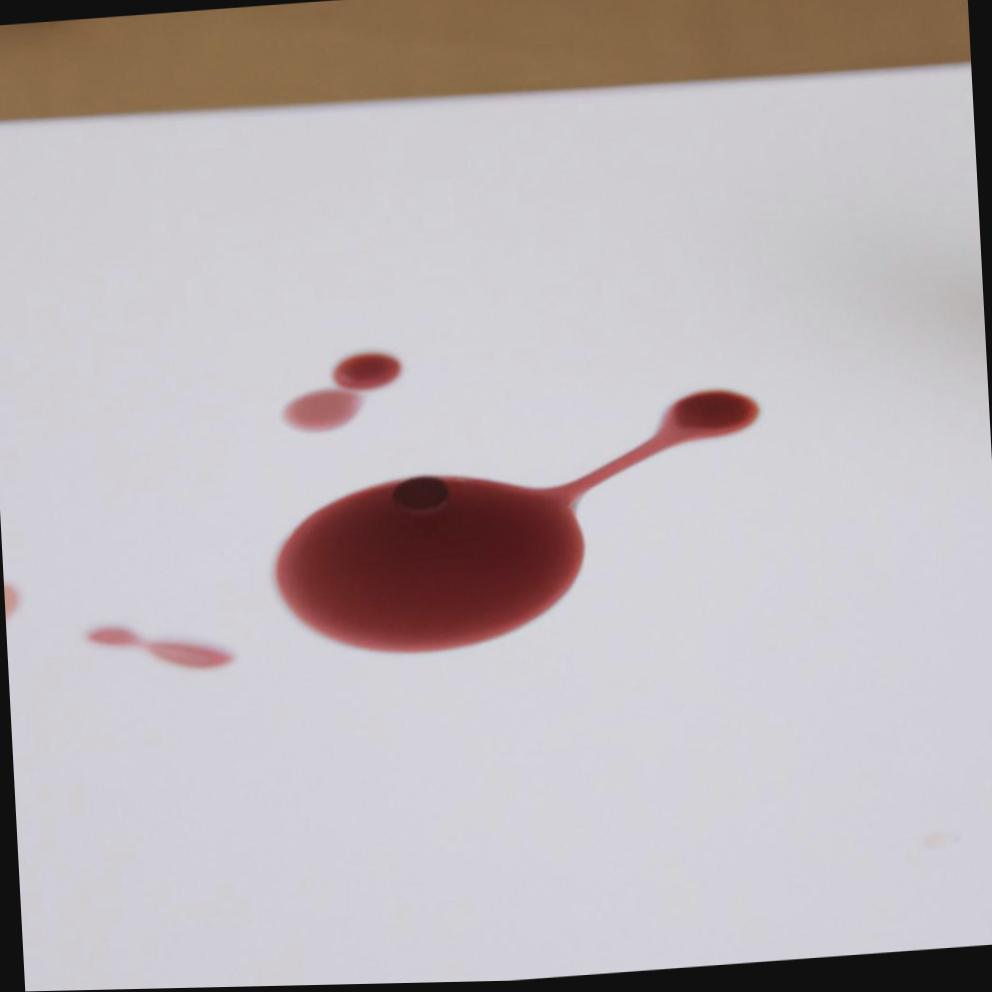Fire: (277, 393, 759, 655), (282, 354, 402, 434)
